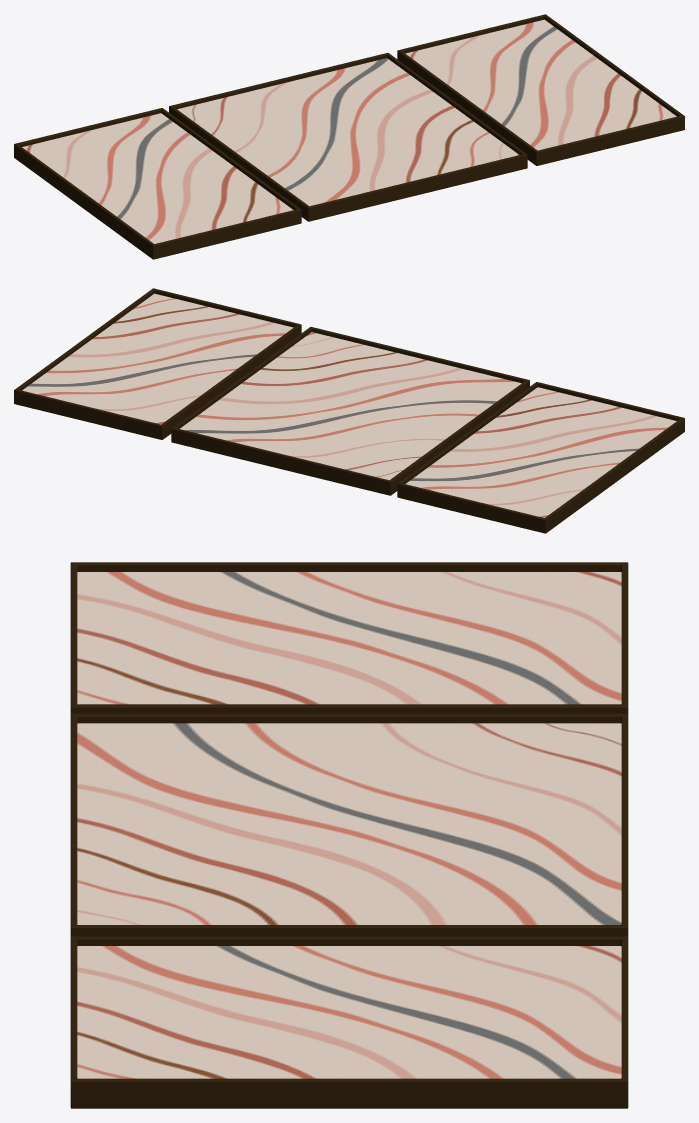
The model's file is wall_tiles.glb.
3 renders of one model, top to bottom at view 1: azimuth 30°, elevation 25°; view 2: azimuth 150°, elevation 25°; view 3: azimuth 270°, elevation 25°, orthographic. The views are drawn at different scales.
Parts seen in each view (by area): view 1: Frame_Middle_Frames_0, Frame_Left_Frames_0, Frame_Right_Frames_0; view 2: Frame_Middle_Frames_0, Frame_Left_Frames_0, Frame_Right_Frames_0; view 3: Frame_Middle_Frames_0, Frame_Right_Frames_0, Frame_Left_Frames_0.
Part boxes in pixels (x1=…): Frame_Middle_Frames_0: x1=169, y1=53, x2=527, y2=221; Frame_Left_Frames_0: x1=14, y1=108, x2=301, y2=259; Frame_Right_Frames_0: x1=397, y1=14, x2=684, y2=165; Frame_Middle_Frames_0: x1=171, y1=327, x2=529, y2=495; Frame_Left_Frames_0: x1=397, y1=382, x2=684, y2=533; Frame_Right_Frames_0: x1=14, y1=288, x2=301, y2=439; Frame_Middle_Frames_0: x1=70, y1=713, x2=628, y2=936; Frame_Right_Frames_0: x1=70, y1=936, x2=628, y2=1108; Frame_Left_Frames_0: x1=70, y1=562, x2=628, y2=713.
Size of the model in its own units: 1.92 by 0.0495 by 0.8735.
2 materials, 2 textured.
